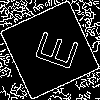E: (25, 25, 80, 73)
